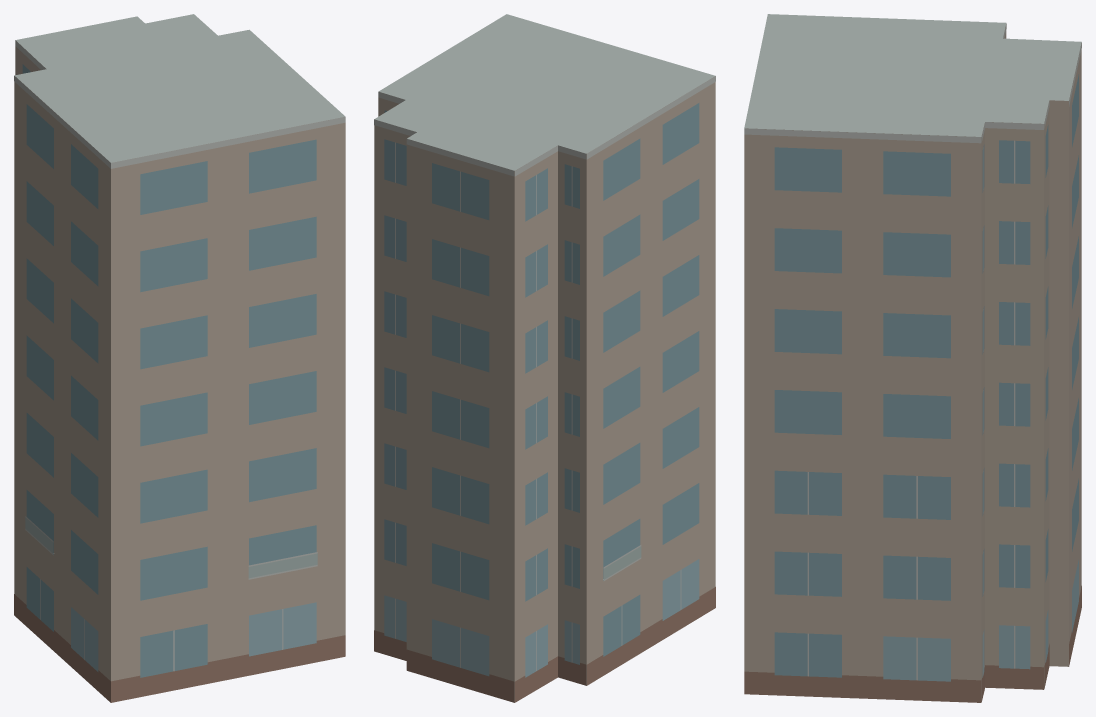
File: survey-upis-32944376.glb
3 renders of one model, left to right at view 1: azimuth 30°, elevation 25°; view 2: azimuth 150°, elevation 25°; view 3: azimuth 270°, elevation 25°, orthographic. The views are drawn at different scales.
Parts seen in each view (by area): view 1: survey-upis-32944376.tmp; view 2: survey-upis-32944376.tmp; view 3: survey-upis-32944376.tmp.
Part boxes in pixels (<box>): survey-upis-32944376.tmp: <box>14,14,345,702</box>; survey-upis-32944376.tmp: <box>374,14,715,702</box>; survey-upis-32944376.tmp: <box>744,14,1081,702</box>.
Size of the model in its own units: 10.31 by 22.1 by 11.96.
